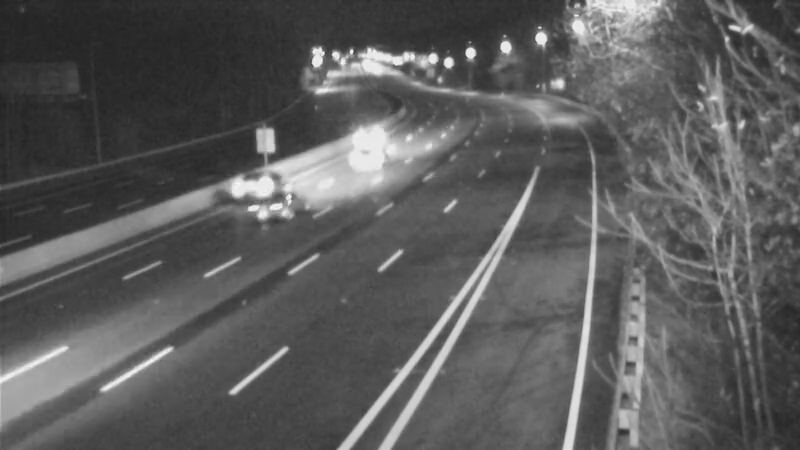vehicle: (325, 118, 405, 198), (209, 147, 289, 227), (233, 172, 313, 252), (349, 110, 399, 160)
